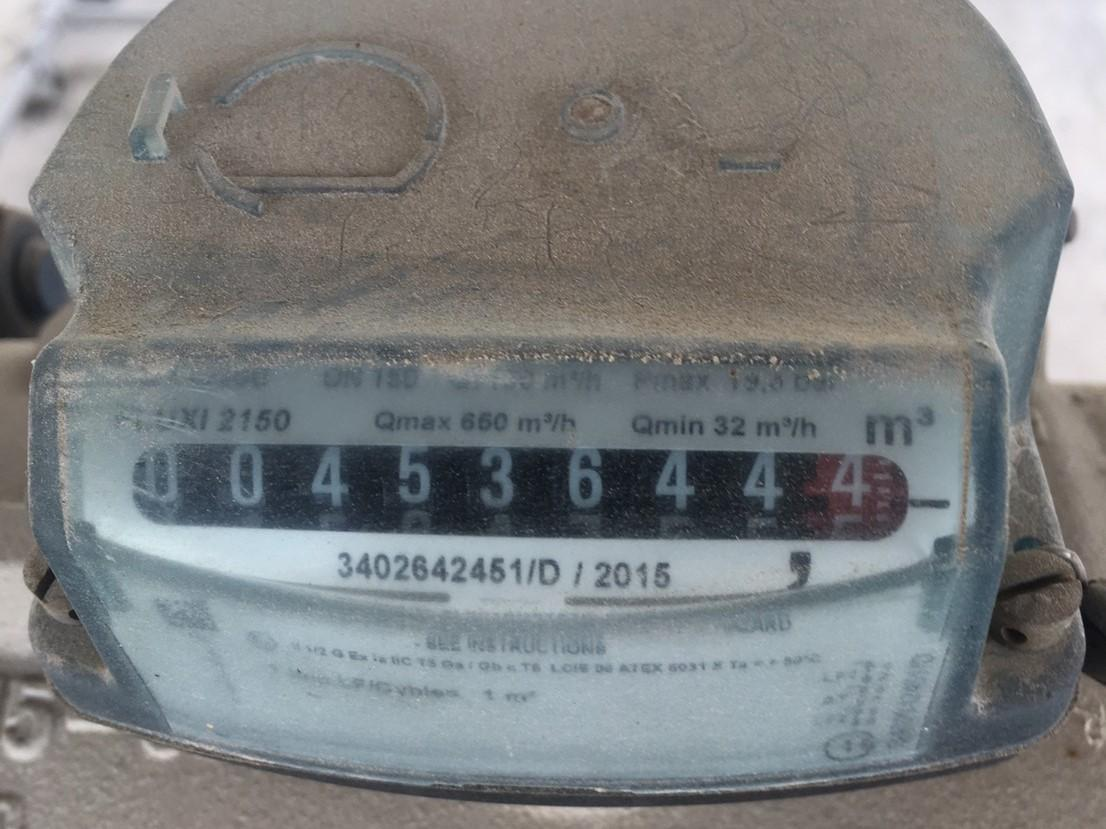analog_dial: (125, 427, 952, 569)
